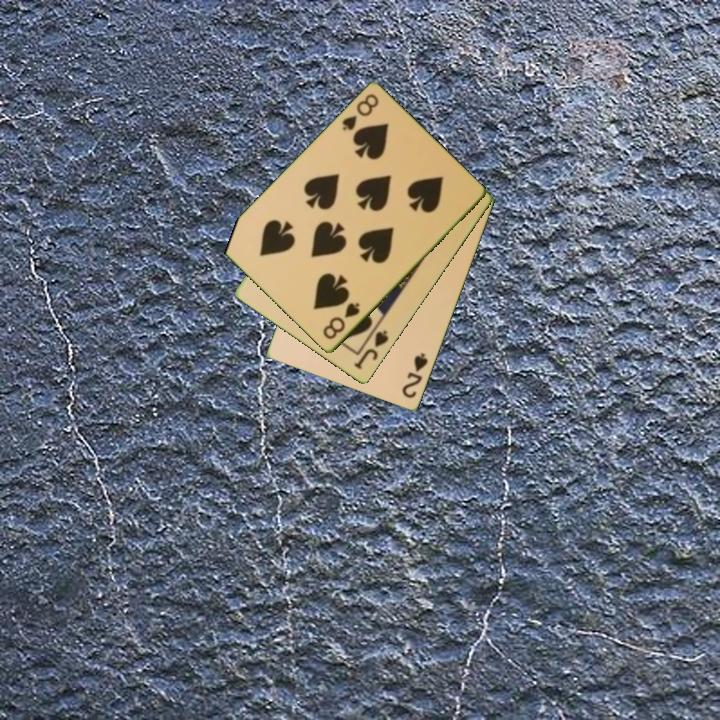2s: (399, 350, 431, 402)
8s: (338, 90, 382, 134), (320, 299, 363, 343)
Js: (350, 327, 392, 373)
